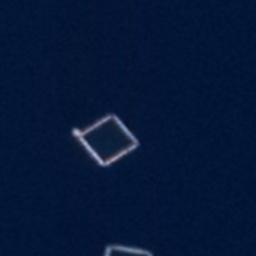square_solid: (72, 109, 143, 175)
